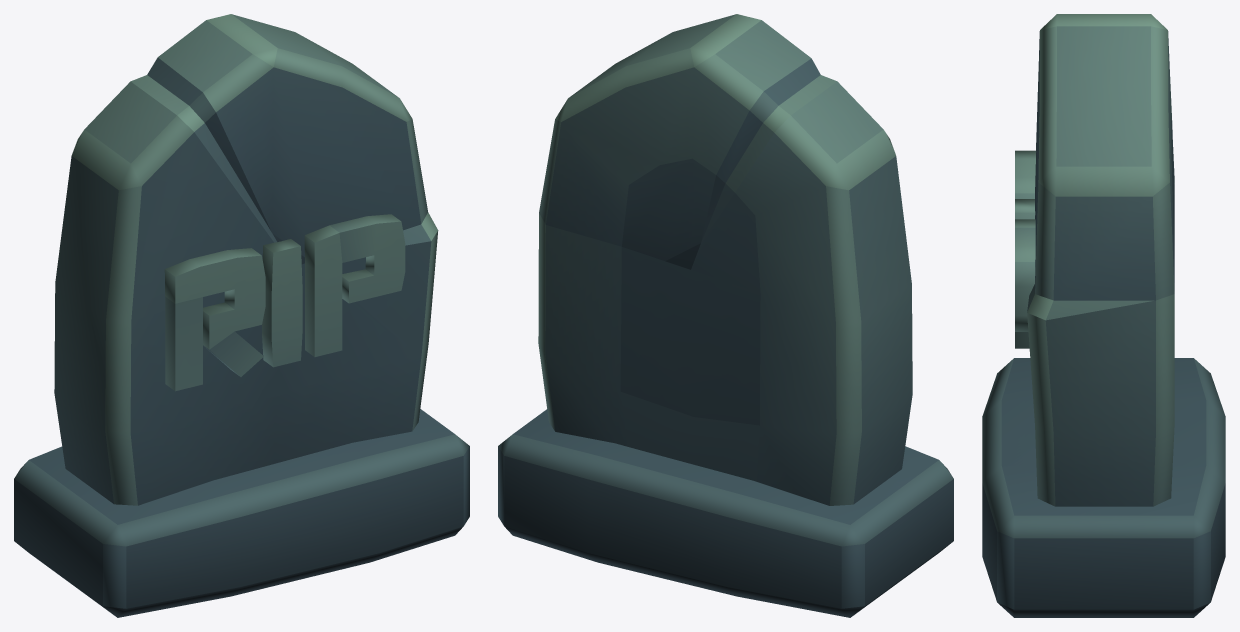
Rendered from grave_stone_2_LOD_setup.fbx.
3 views of the same model, side by side, from view 1: azimuth 30°, elevation 25°; view 2: azimuth 150°, elevation 25°; view 3: azimuth 270°, elevation 25° (orthographic).
Visible parts, largest first — view 1: grave_stone_2_LOD0; view 2: grave_stone_2_LOD0; view 3: grave_stone_2_LOD0.
Boxes of the visible parts, x1,y1,x2,y2 form: grave_stone_2_LOD0: (14,14,469,617); grave_stone_2_LOD0: (498,14,953,617); grave_stone_2_LOD0: (982,14,1225,617).
Size of what is drawn, in the model's own units: 90.01 by 120 by 51.3.
